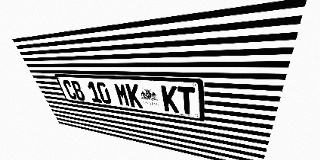0: (95, 82, 112, 104)
1: (85, 81, 102, 103)
B: (70, 80, 86, 101)
C: (61, 80, 78, 100)
K: (161, 85, 179, 113), (125, 83, 143, 108)
M: (113, 83, 131, 107)
T: (177, 86, 195, 115)
